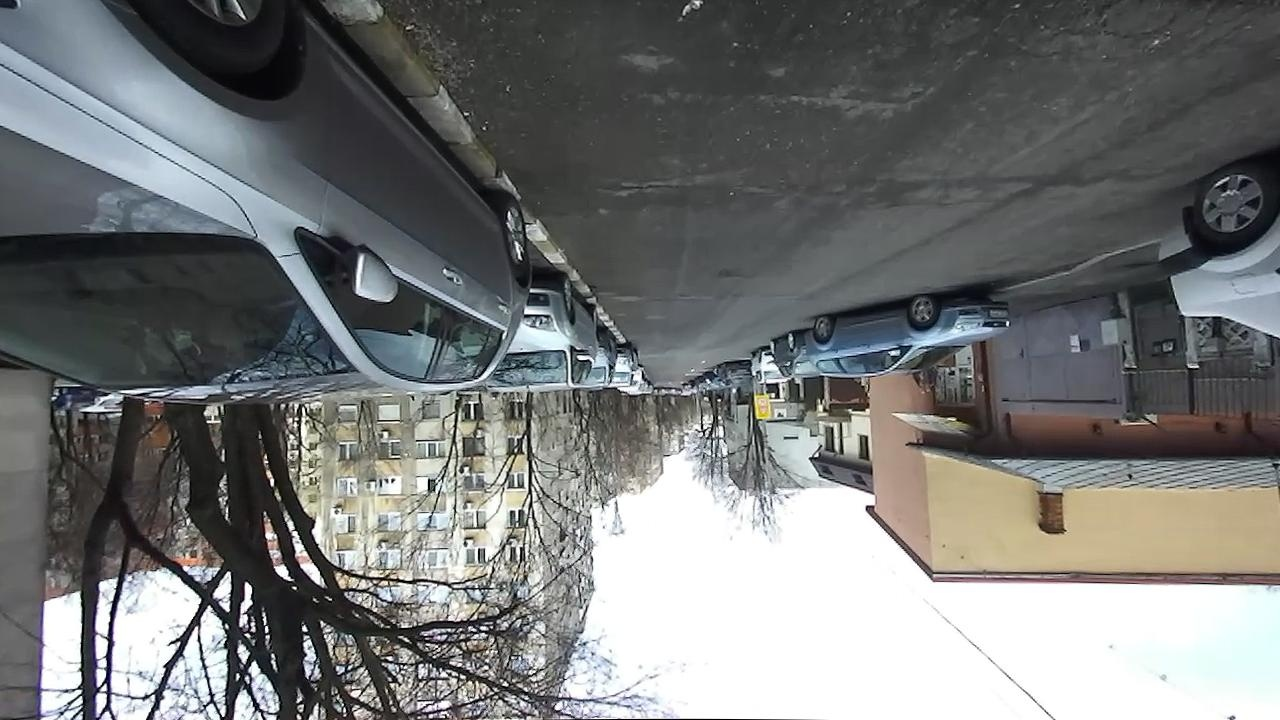pothole: (606, 169, 694, 200)
